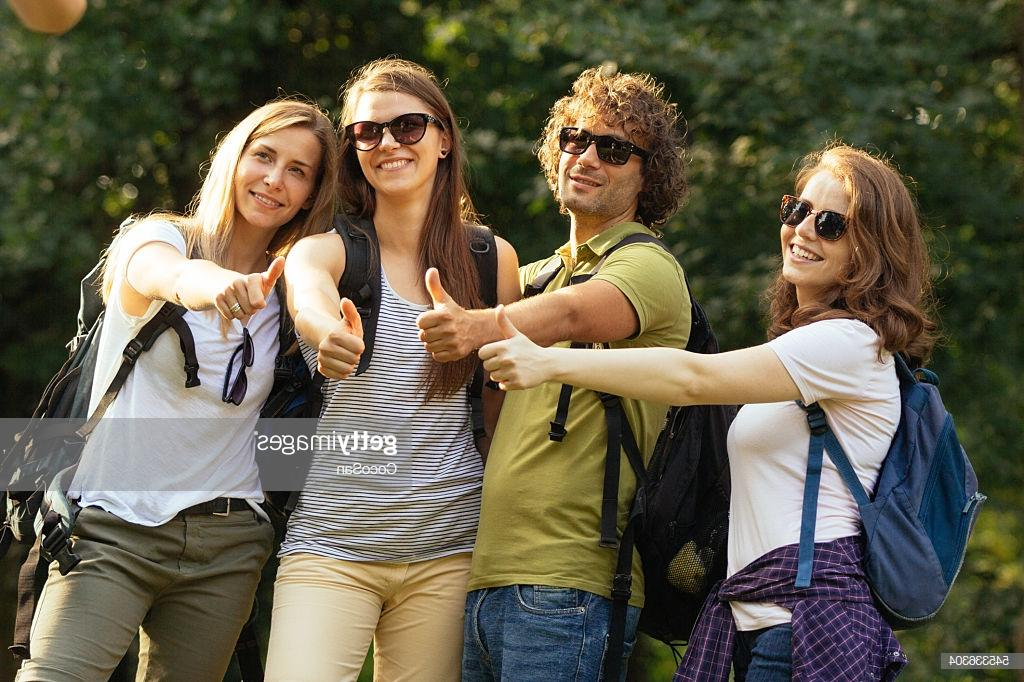thumbsup: (417, 266, 466, 363), (215, 256, 285, 321), (317, 297, 365, 381), (478, 304, 524, 391)
